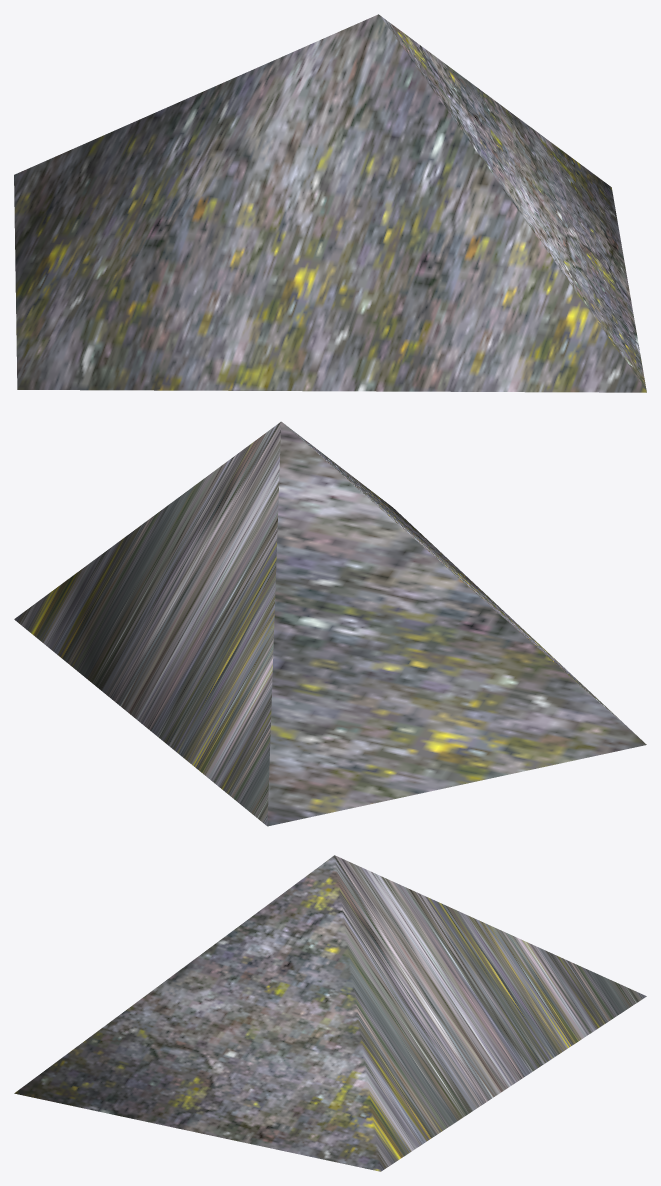
Rendered from rock_weatheredmossy_medium_l4.fbx.
3 renders of one model, top to bottom at view 1: azimuth 30°, elevation 25°; view 2: azimuth 150°, elevation 25°; view 3: azimuth 270°, elevation 25°, orthographic. The views are drawn at different scales.
Parts seen in each view (by area): view 1: mesh_node; view 2: mesh_node; view 3: mesh_node.
Part boxes in pixels (bbox=[...]): mesh_node: bbox=[14, 14, 646, 392]; mesh_node: bbox=[14, 421, 646, 826]; mesh_node: bbox=[14, 855, 646, 1171].
Size of the model in its own units: 0.5592 by 0.2259 by 0.5821.
1 material, 1 textured.
